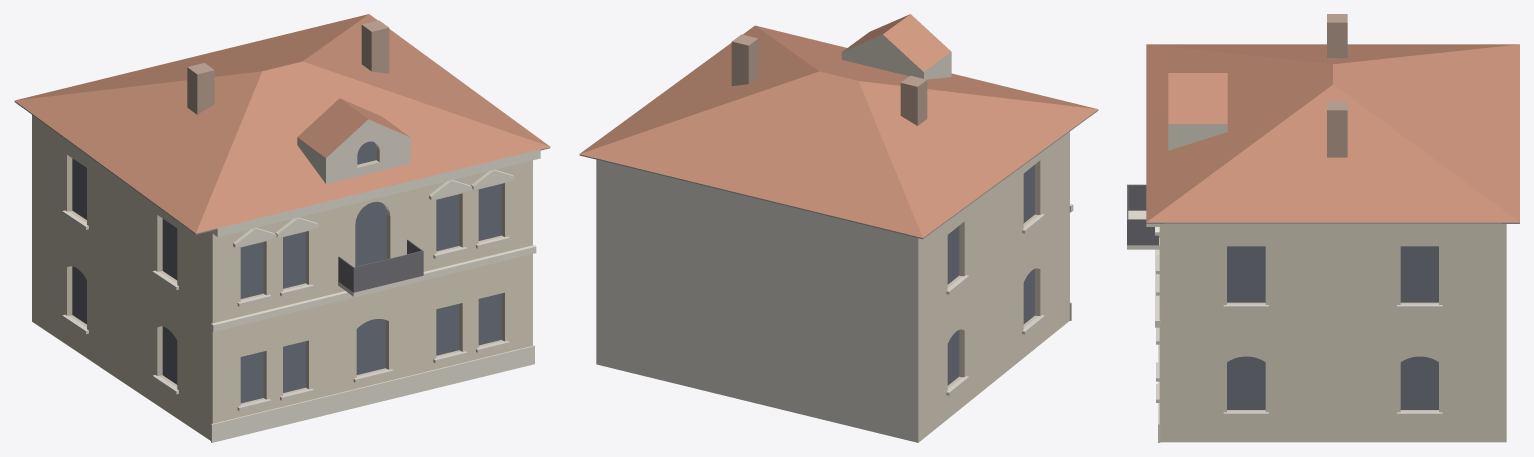
3 views of the same model, side by side, from view 1: azimuth 30°, elevation 25°; view 2: azimuth 150°, elevation 25°; view 3: azimuth 270°, elevation 25° (orthographic). The views are drawn at different scales.
Parts seen in each view (by area): view 1: CP_995_Masonry, CP_995_Roof, CP_995_Dormer_gable, CP_995_Cornice_main_plinth_0, CP_995_Cornice_main_eave_0, CP_995_Cornice_main_string_0, CP_995_Balcony_0_rail_f, CP_995_Chimney_1, CP_995_Chimney_0; view 2: CP_995_Masonry, CP_995_Roof, CP_995_Dormer_gable, CP_995_Chimney_1, CP_995_Chimney_0, CP_995_Roof_EaveClosure_2; view 3: CP_995_Masonry, CP_995_Roof, CP_995_Dormer_gable, CP_995_Chimney_1, CP_995_Chimney_0, CP_995_Balcony_0_rail_r, CP_995_Roof_EaveClosure_1, CP_995_Balcony_0_rail_l.
Boxes of the visible parts, <box> form: CP_995_Masonry: <box>32,115,532,440</box>; CP_995_Roof: <box>14,14,550,233</box>; CP_995_Dormer_gable: <box>297,98,410,184</box>; CP_995_Cornice_main_plinth_0: <box>211,345,534,442</box>; CP_995_Cornice_main_eave_0: <box>211,149,540,236</box>; CP_995_Cornice_main_string_0: <box>211,245,536,331</box>; CP_995_Balcony_0_rail_f: <box>353,250,423,292</box>; CP_995_Chimney_1: <box>361,20,389,73</box>; CP_995_Chimney_0: <box>187,63,214,114</box>; CP_995_Masonry: <box>596,132,1069,442</box>; CP_995_Roof: <box>579,25,1098,237</box>; CP_995_Dormer_gable: <box>841,14,951,79</box>; CP_995_Chimney_1: <box>731,34,758,85</box>; CP_995_Chimney_0: <box>900,75,927,125</box>; CP_995_Roof_EaveClosure_2: <box>594,158,931,238</box>; CP_995_Masonry: <box>1159,223,1506,442</box>; CP_995_Roof: <box>1146,44,1519,222</box>; CP_995_Dormer_gable: <box>1168,73,1227,150</box>; CP_995_Chimney_1: <box>1327,101,1347,157</box>; CP_995_Chimney_0: <box>1327,14,1347,57</box>; CP_995_Balcony_0_rail_r: <box>1128,219,1158,245</box>; CP_995_Roof_EaveClosure_1: <box>1146,222,1519,223</box>; CP_995_Balcony_0_rail_l: <box>1128,184,1146,210</box>.
Bounding box in the file's own units: 14.24 × 11.2 × 13.27.
